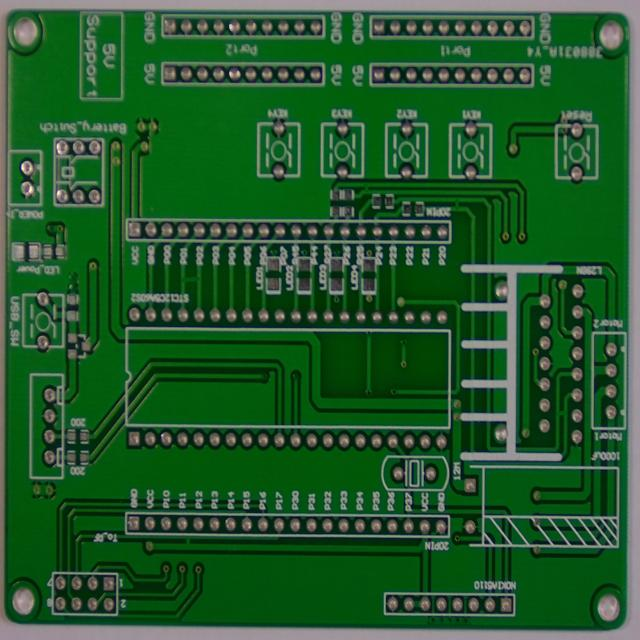short: (179, 271, 203, 288), (181, 531, 197, 553), (447, 196, 464, 215), (553, 402, 570, 421), (358, 180, 373, 198)
